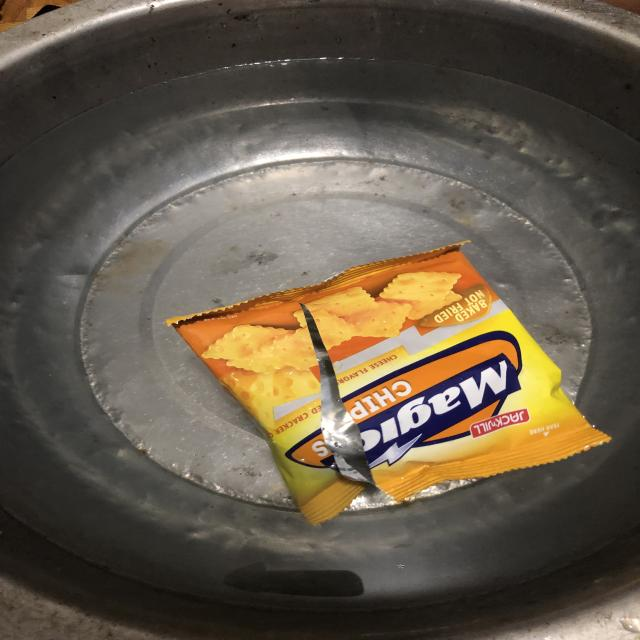Plastic Wrapper: (166, 243, 610, 524)
